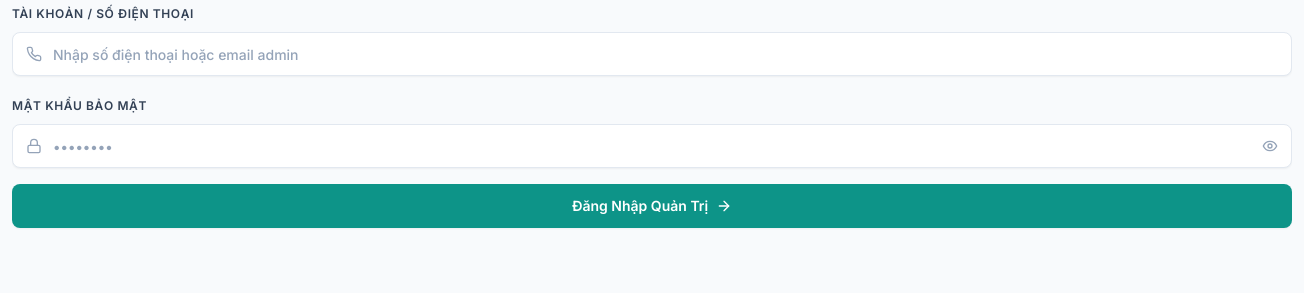
Test case: LoginForm › displays validation errors and prevents submit when submitting empty form
This screenshot has width=1304, height=293.
Click the button "Đăng Nhập Quản Trị".
click(652, 206)  # box [12,184,1292,228]
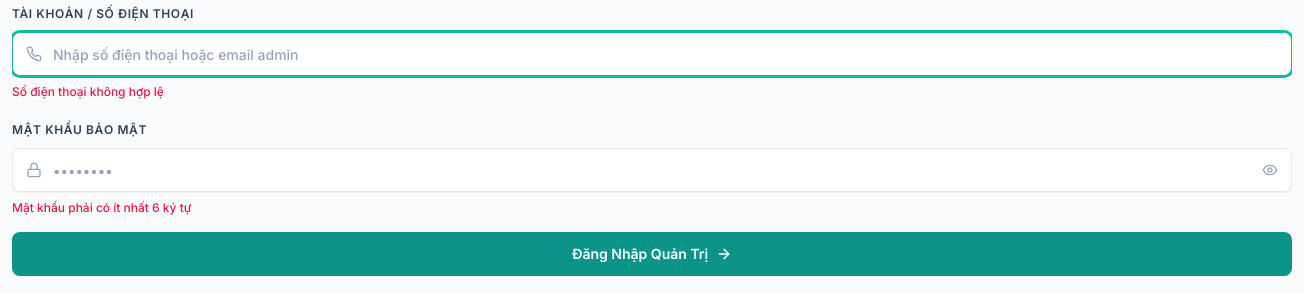
Check: the text "Số điện thoại không hợp lệ" is shown, box [12,84,164,99]
Check: the text "Mật khẩu phải có ít nhất 6 ký tự" is shown, box [12,200,191,215]
